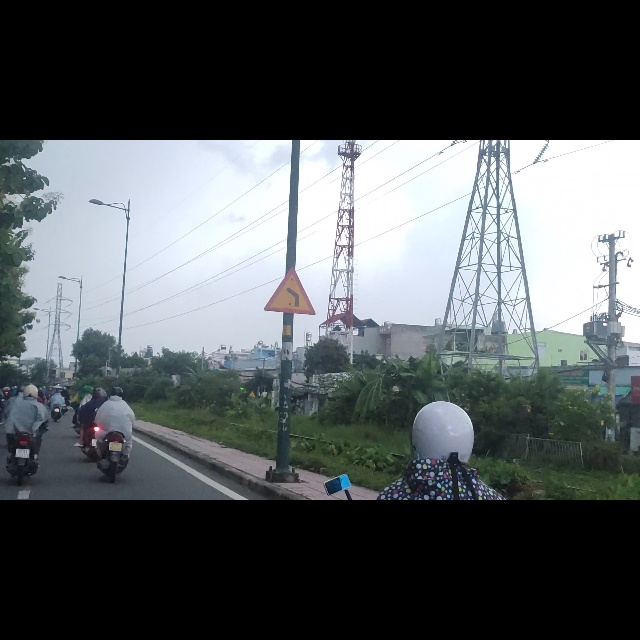bien_nguy_hiem: (264, 228, 316, 312)
